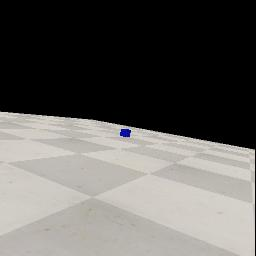box: (120, 129, 131, 137)
